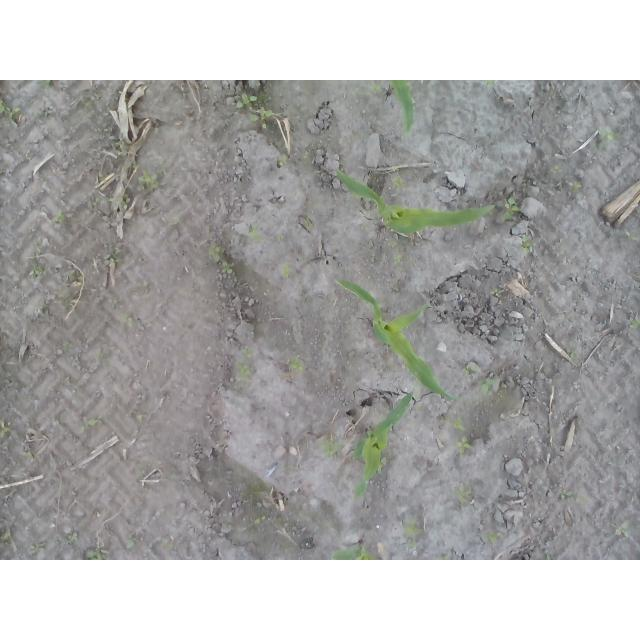Maize: (334, 274, 469, 402), (335, 169, 498, 235), (351, 392, 413, 501), (391, 80, 415, 136), (332, 544, 380, 561)
Weeds: (238, 351, 255, 384), (503, 192, 522, 221), (0, 98, 20, 123), (136, 168, 160, 188), (235, 91, 258, 110), (318, 439, 342, 457), (405, 516, 417, 550), (454, 483, 471, 506), (611, 520, 633, 537), (454, 435, 473, 453), (208, 243, 225, 263), (480, 376, 497, 396), (251, 107, 273, 122), (481, 529, 504, 543), (520, 236, 536, 256), (80, 416, 97, 433), (598, 126, 614, 144), (249, 223, 264, 241), (0, 530, 16, 546), (1, 417, 12, 439), (567, 179, 584, 193), (289, 358, 303, 375), (454, 415, 467, 433), (367, 82, 385, 95), (88, 549, 109, 560), (32, 265, 48, 279), (559, 488, 576, 501), (222, 260, 235, 274), (391, 176, 405, 189), (120, 313, 133, 327), (120, 194, 131, 210), (624, 319, 640, 330), (95, 196, 114, 205), (127, 534, 137, 550), (33, 111, 49, 121), (66, 530, 78, 543), (55, 209, 66, 223), (624, 232, 640, 241), (82, 99, 95, 110), (549, 165, 563, 175), (280, 263, 288, 280), (128, 159, 141, 169), (255, 512, 265, 525), (304, 215, 313, 229), (277, 154, 287, 166), (384, 237, 396, 247), (464, 367, 477, 376), (378, 458, 386, 471), (103, 253, 113, 263), (71, 271, 82, 280), (495, 288, 505, 297), (484, 80, 495, 88), (24, 451, 33, 460), (359, 224, 369, 232), (276, 233, 284, 241), (568, 352, 576, 360), (394, 256, 401, 265), (440, 553, 449, 560), (111, 140, 121, 145), (47, 81, 53, 88), (345, 288, 351, 294)
